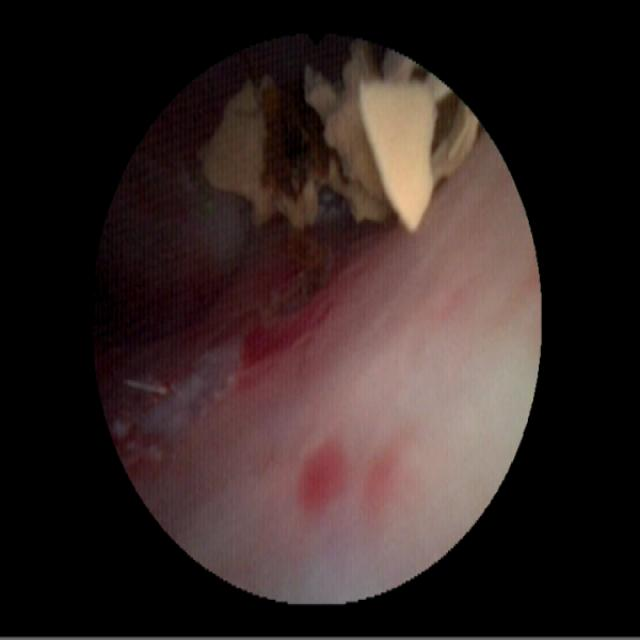stone: (202, 42, 476, 234)
tissue: (101, 76, 529, 589)
